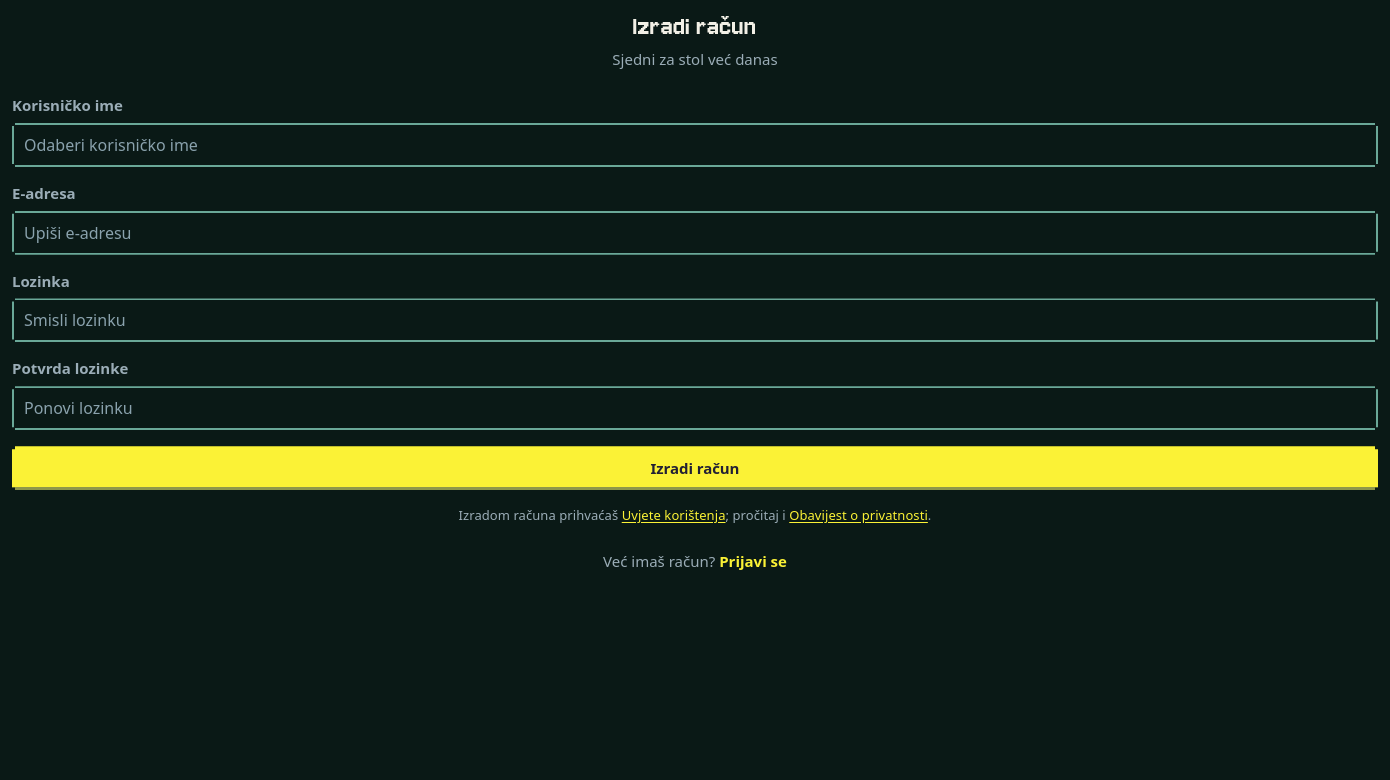
Test: SignupForm failures › the IN_GAME line at signup in Croatian
expect the heading "Izradi račun" is shown: met, box [633,11,757,42]
Type "marko" into the field labelled "Korisničko ime".
click(695, 145); type("marko")  # box [12,123,1378,167]
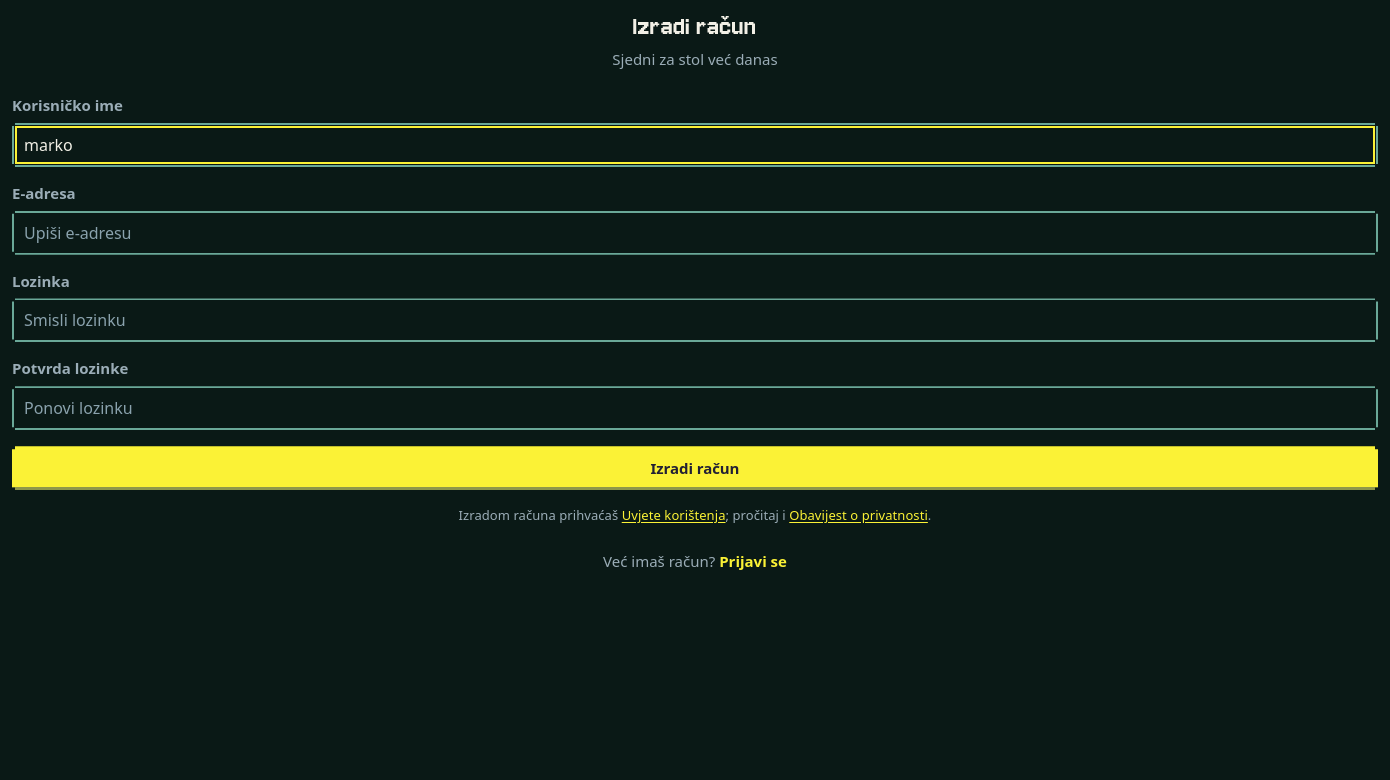
Type "ana@example.com" into the field labelled "E-adresa".
click(695, 233); type("ana@example.com")  # box [12,211,1378,255]
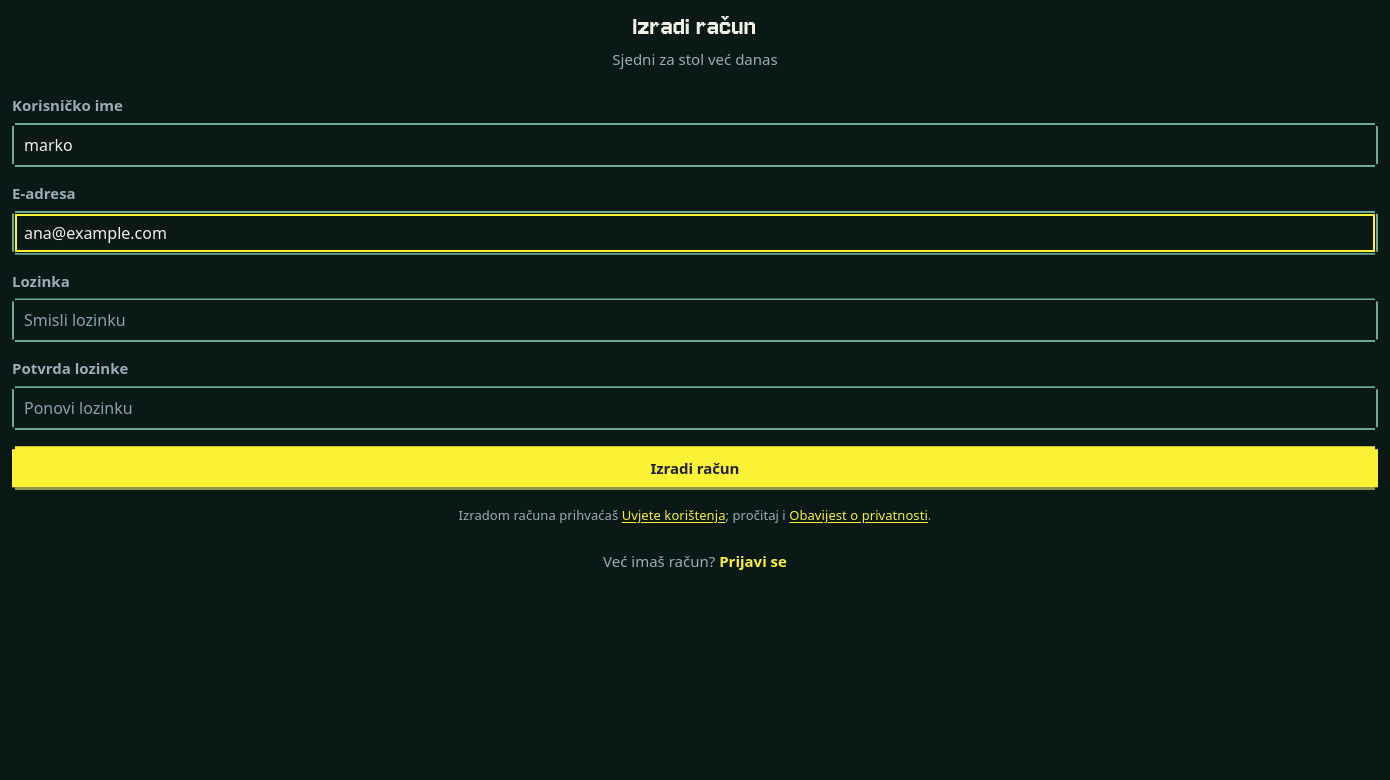
Type "long-enough-1" into the password field labelled "Lozinka".
click(695, 320); type("long-enough-1")  # box [12,298,1378,342]
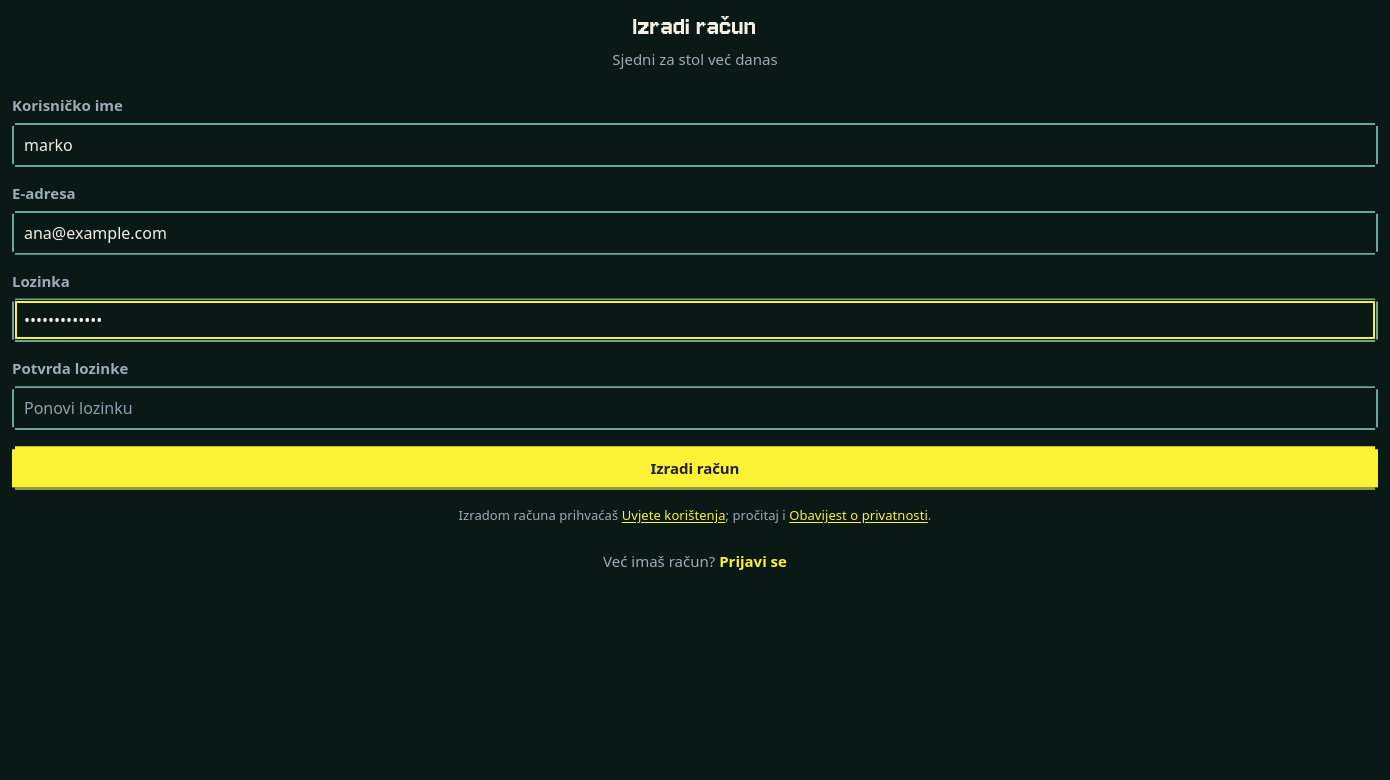
Type "long-enough-1" into the password field labelled "Potvrda lozinke".
click(695, 408); type("long-enough-1")  # box [12,386,1378,430]
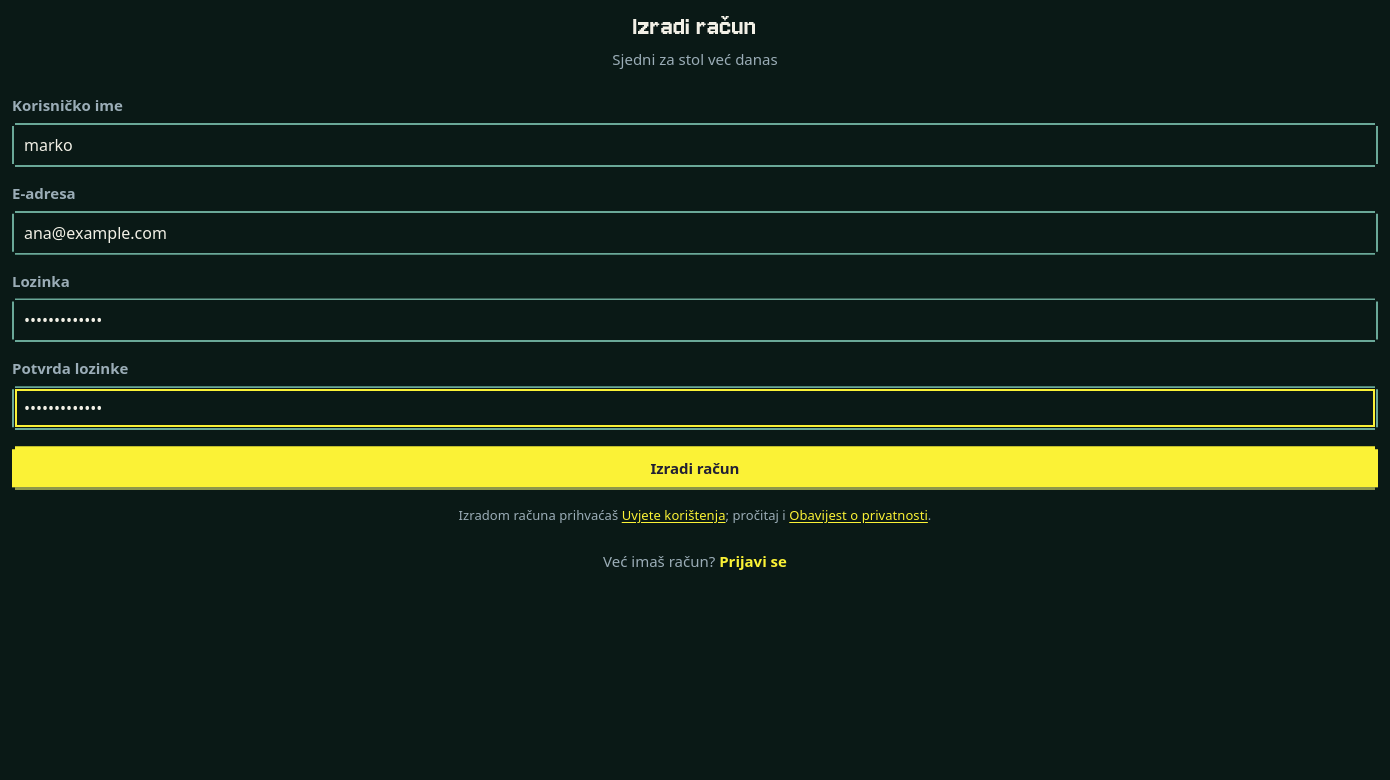
Click the button "Izradi račun".
click(695, 468)  # box [12,446,1378,490]
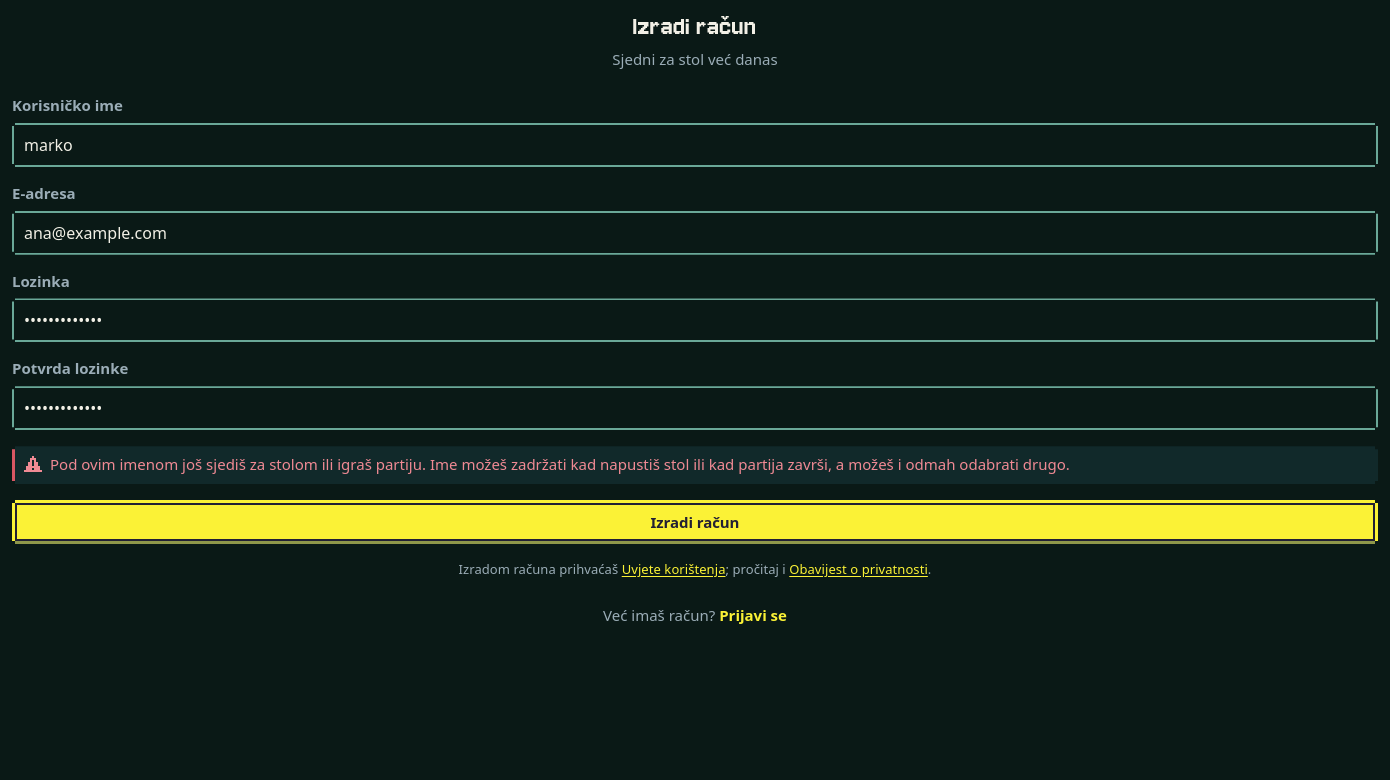
expect the message shows "Pod ovim imenom još sjediš za stolom ili igraš partiju. Ime možeš zadržati kad napustiš stol ili kad partija završi, a možeš i odmah odabrati drugo.": met, box [50,454,1070,474]
